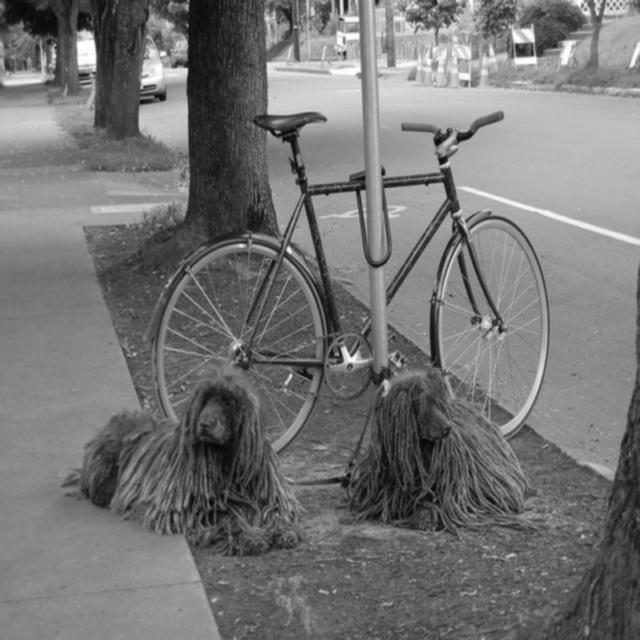bicycle: (140, 106, 551, 453)
car: (138, 33, 165, 100), (75, 36, 96, 79), (169, 38, 184, 66)
dog: (62, 367, 308, 552), (331, 362, 538, 538)
pole: (357, 1, 391, 375)
truck: (333, 12, 359, 59)
